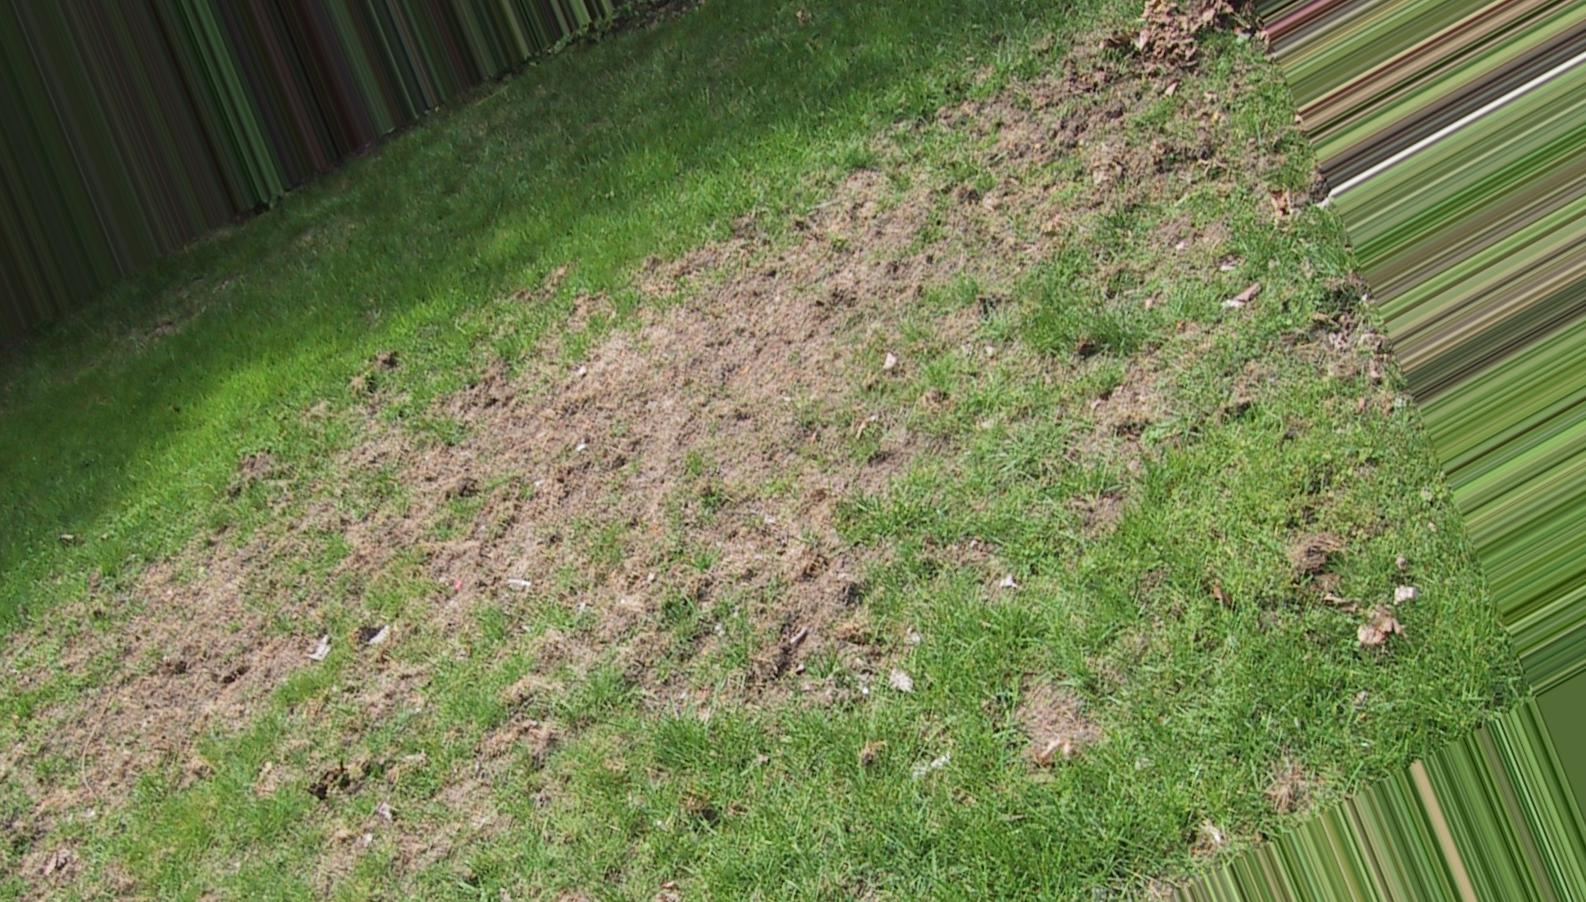patch: (443, 383, 783, 642), (700, 227, 1003, 359), (172, 595, 386, 726)
